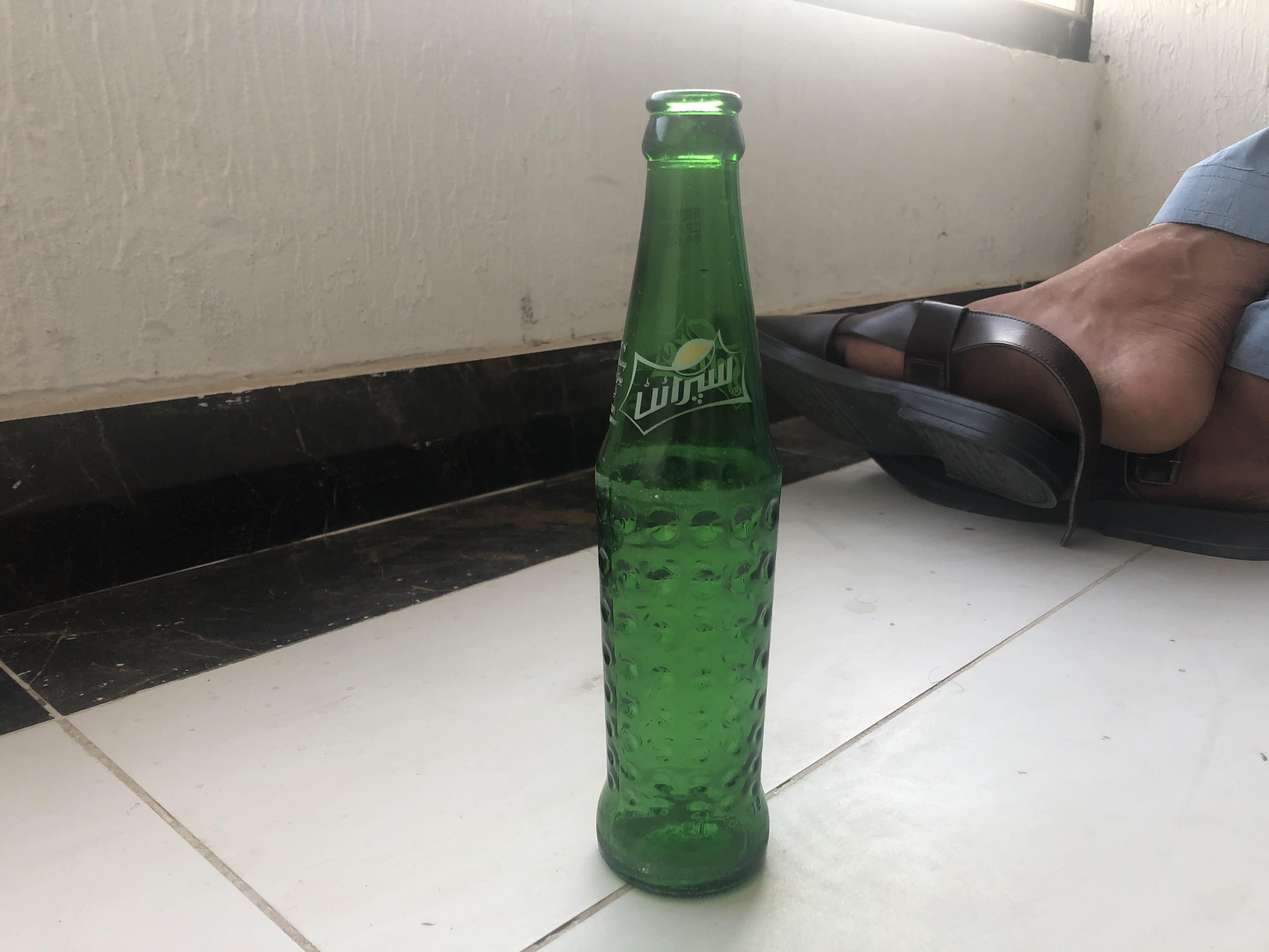bottle-glass: (594, 81, 781, 894)
